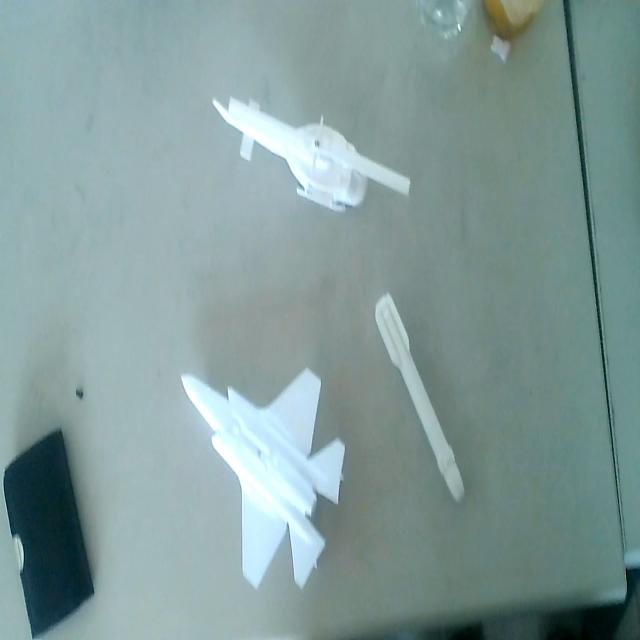Helicopter: (208, 76, 415, 228)
Jet: (178, 360, 349, 595)
Rocket: (372, 291, 468, 508)
